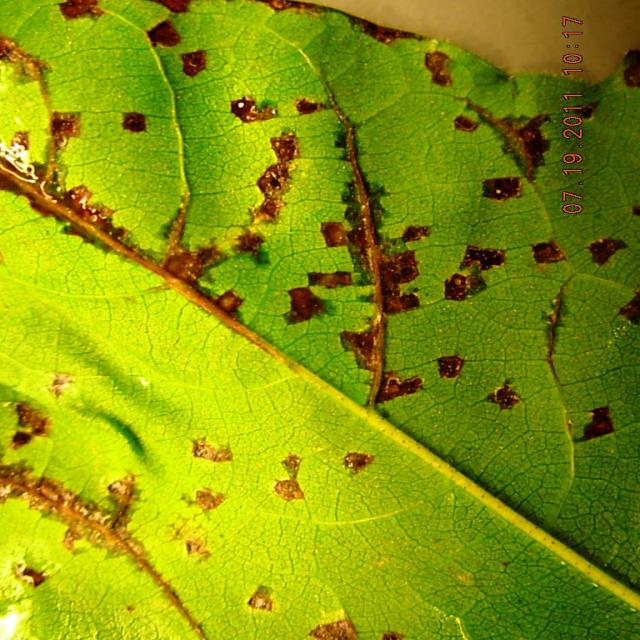Bacterial Blight: (24, 20, 505, 400)
